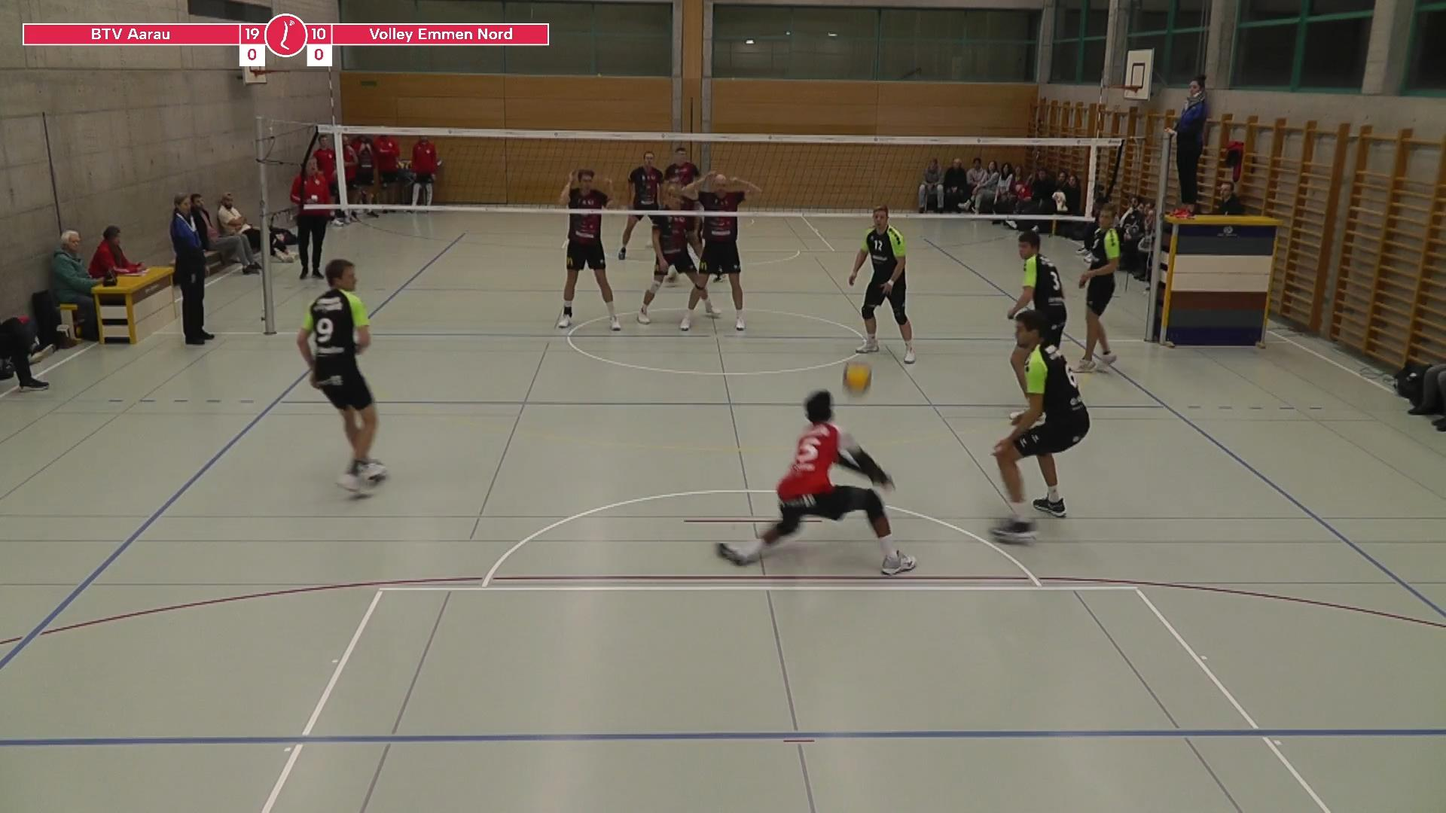ricezione: (705, 381, 928, 582)
